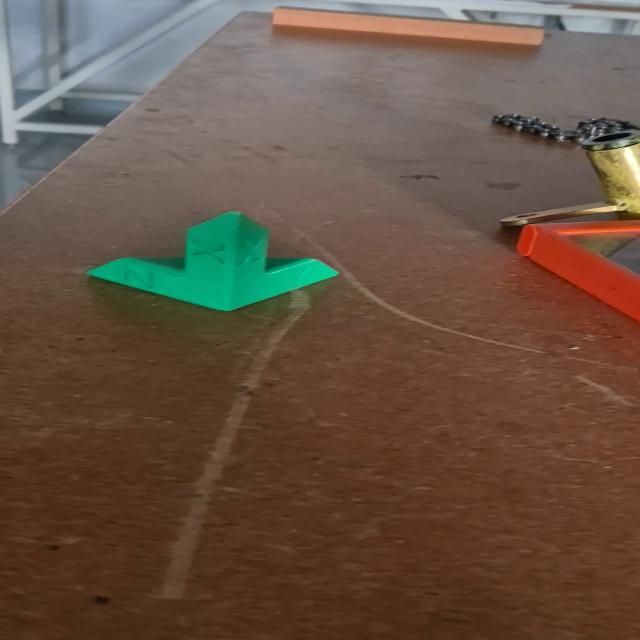objects: (83, 210, 343, 313)
